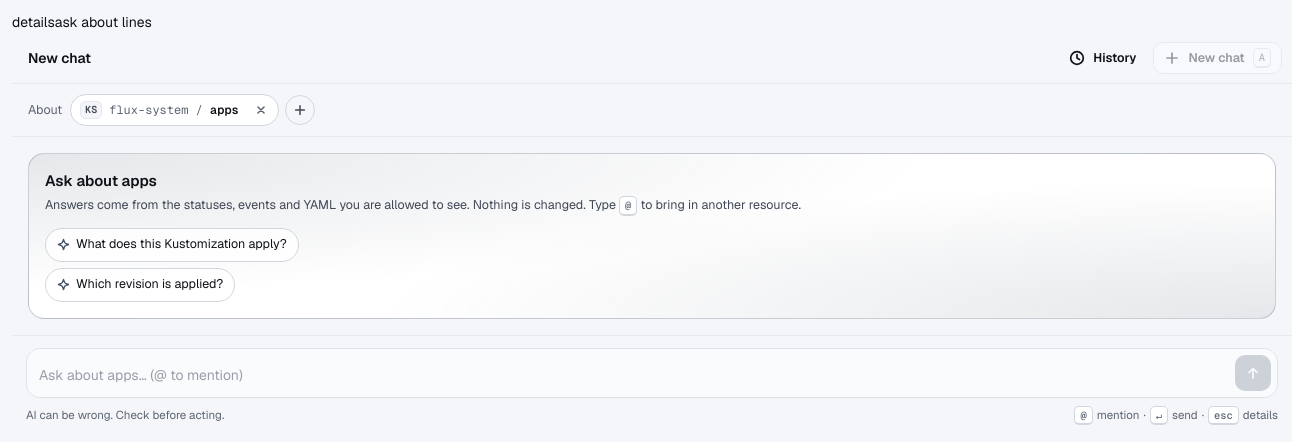
Test: Ask AI chats › errors › explains a 400
Type "hello" into the dropdown named "Ask AI".
click(633, 374); type("hello")  # box 39,358 -> 1227,390
Then press Enter
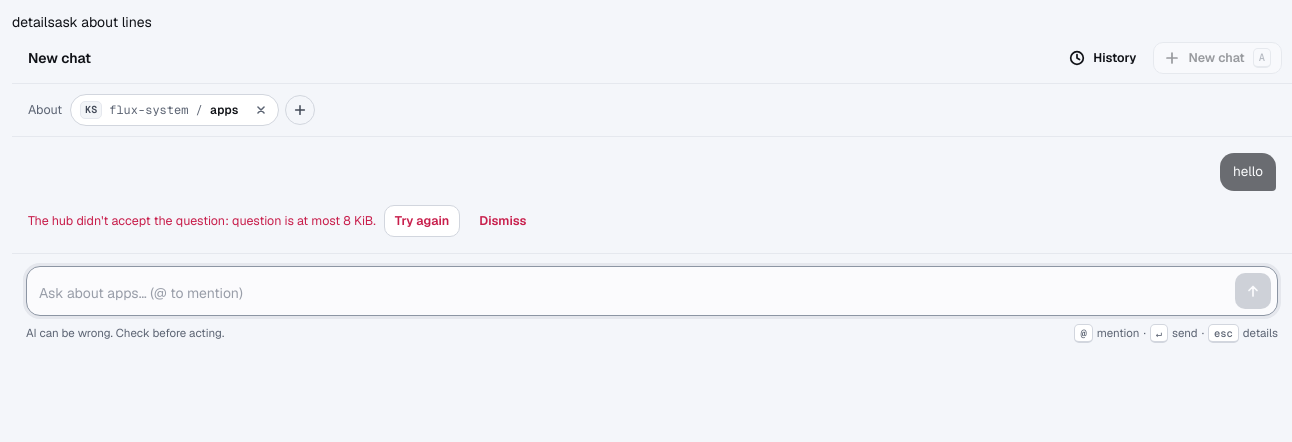
Expected: the message shows "question is at most 8 KiB.", 28,212 -> 376,229
